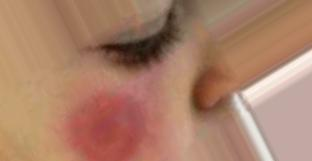Tick: (69, 91, 148, 160)
